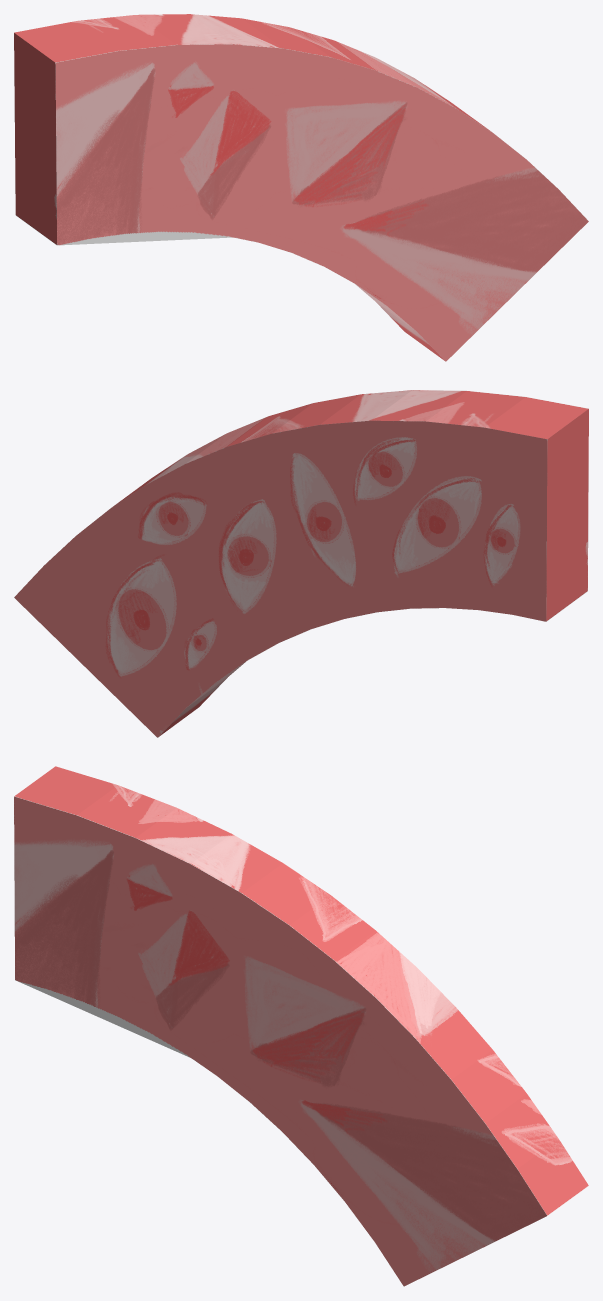
Rendered from platform-with-texture2.fbx.
The picture shows the model from 3 angles, top to bottom: view 1: azimuth 30°, elevation 25°; view 2: azimuth 150°, elevation 25°; view 3: azimuth 330°, elevation 25°; orthographic projection.
Parts seen in each view (by area): view 1: platform.003; view 2: platform.003; view 3: platform.003.
Part boxes in pixels (left/top/right/bottom): platform.003: left=14, top=14, right=588, bottom=361; platform.003: left=14, top=390, right=588, bottom=737; platform.003: left=14, top=766, right=588, bottom=1286.
Bounding box in the file's own units: 50.79 × 371 × 262.
1 material, 1 textured.
